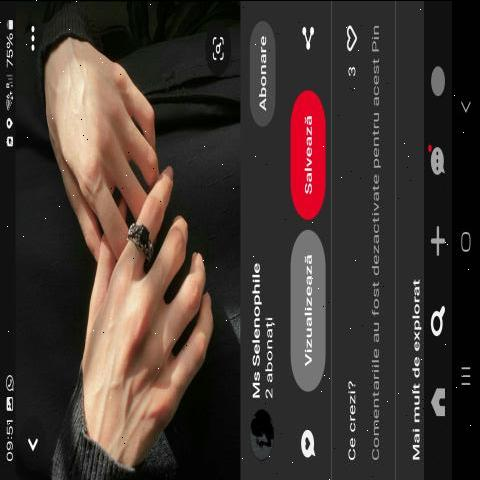Hands: (39, 152, 243, 472), (21, 16, 169, 276)
